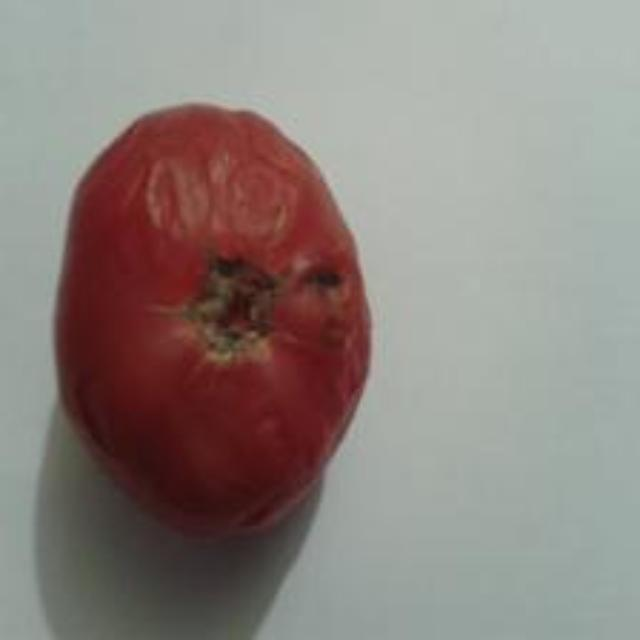defect: (52, 102, 381, 543)
